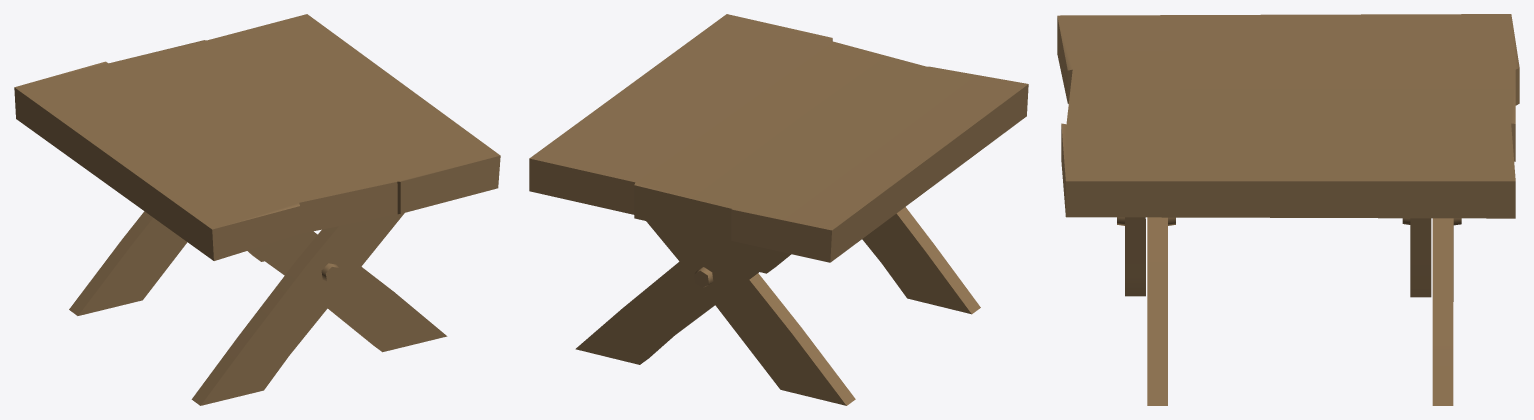
File: table_Lv2.fbx
3 views of the same model, side by side, from view 1: azimuth 30°, elevation 25°; view 2: azimuth 150°, elevation 25°; view 3: azimuth 270°, elevation 25° (orthographic). The views are drawn at different scales.
Visible parts, largest first — view 1: table_low; view 2: table_low; view 3: table_low.
Part boxes in pixels (x1,y1,x2,y2): table_low: (14, 14, 500, 405); table_low: (529, 14, 1028, 405); table_low: (1057, 14, 1519, 405).
Bounding box in the file's own units: 80.33 × 52.62 × 93.86.
